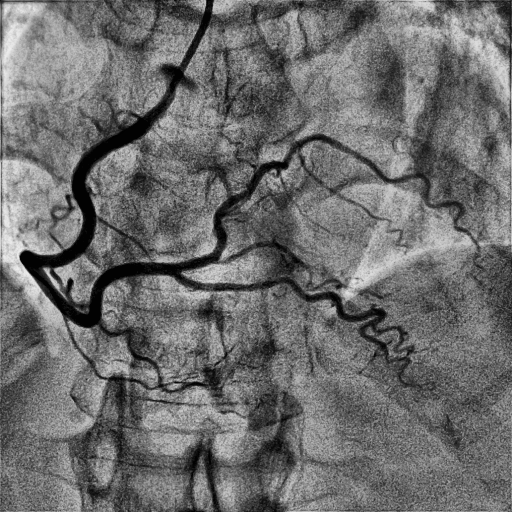pborca: (178, 132, 488, 272)
pda: (173, 273, 421, 388)
rca: (20, 94, 180, 327)
